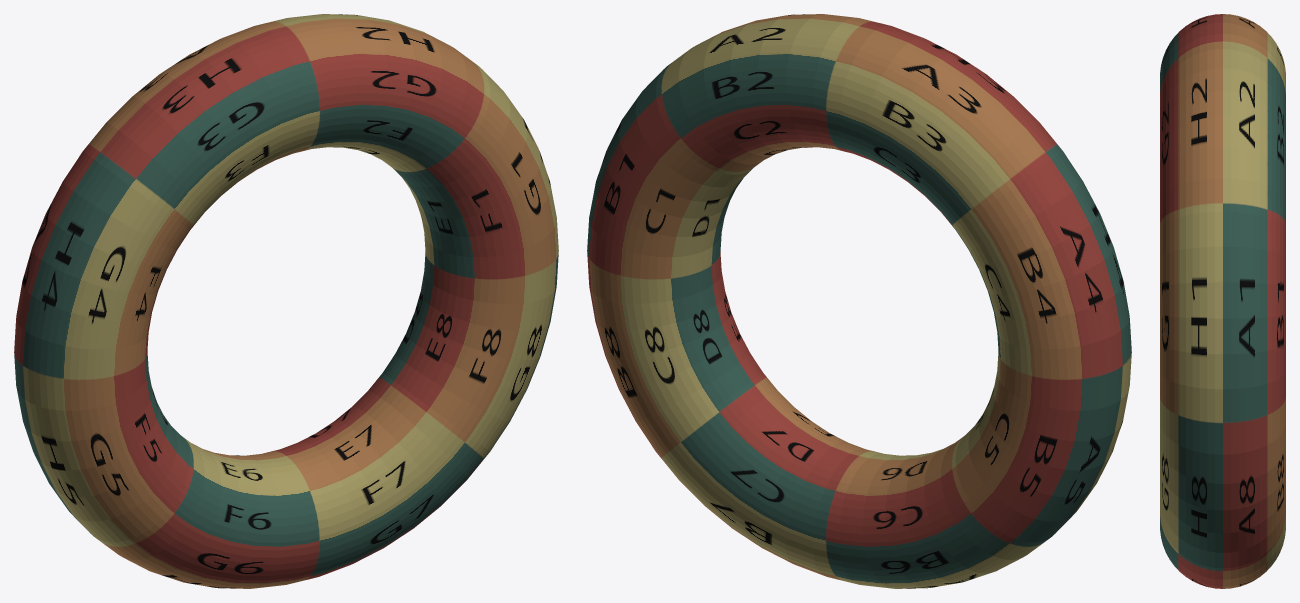
The model's file is texture_torus_R27_r22.glb.
The picture shows the model from 3 angles, left to right: view 1: azimuth 30°, elevation 25°; view 2: azimuth 150°, elevation 25°; view 3: azimuth 270°, elevation 25°; orthographic projection. The views are drawn at different scales.
Parts seen in each view (by area): view 1: world; view 2: world; view 3: world.
Part boxes in pixels (<box>): world: <box>14,14,558,588</box>; world: <box>587,14,1131,588</box>; world: <box>1160,14,1285,588</box>.
Size of the model in its own units: 35.87 by 35.8 by 7.85.
1 material, 1 textured.
